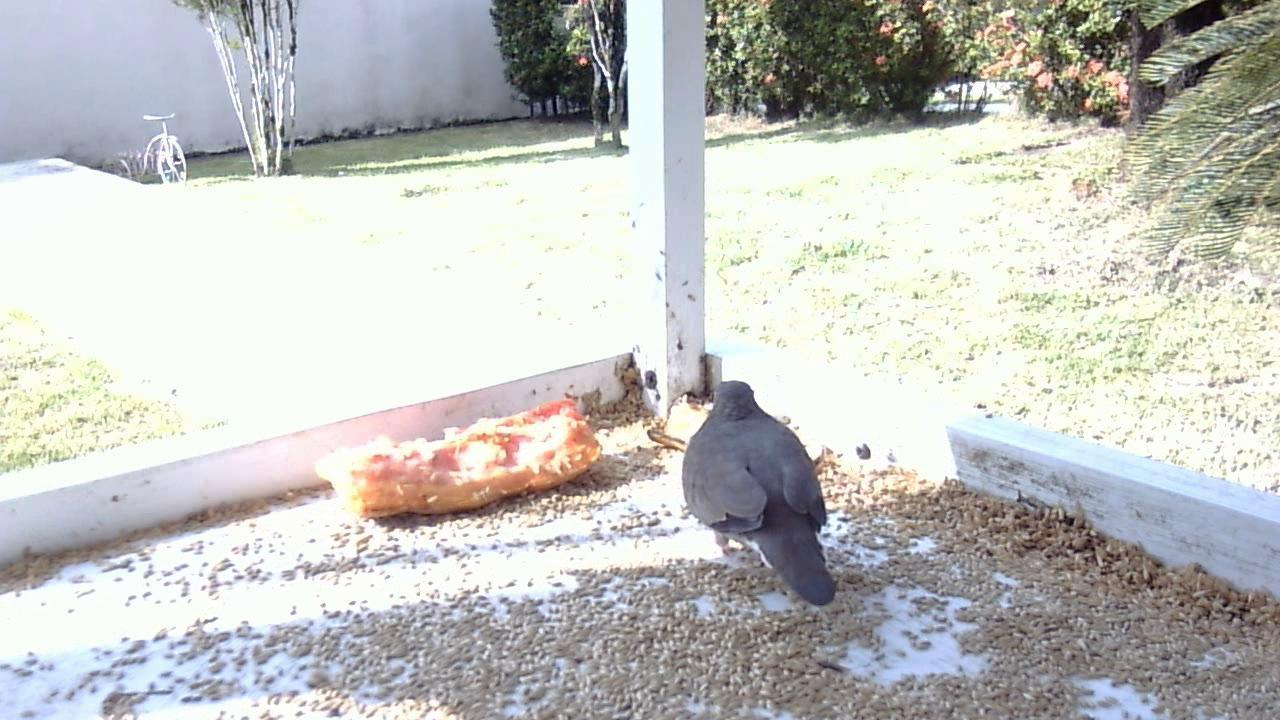rolinha: (669, 378, 841, 609)
